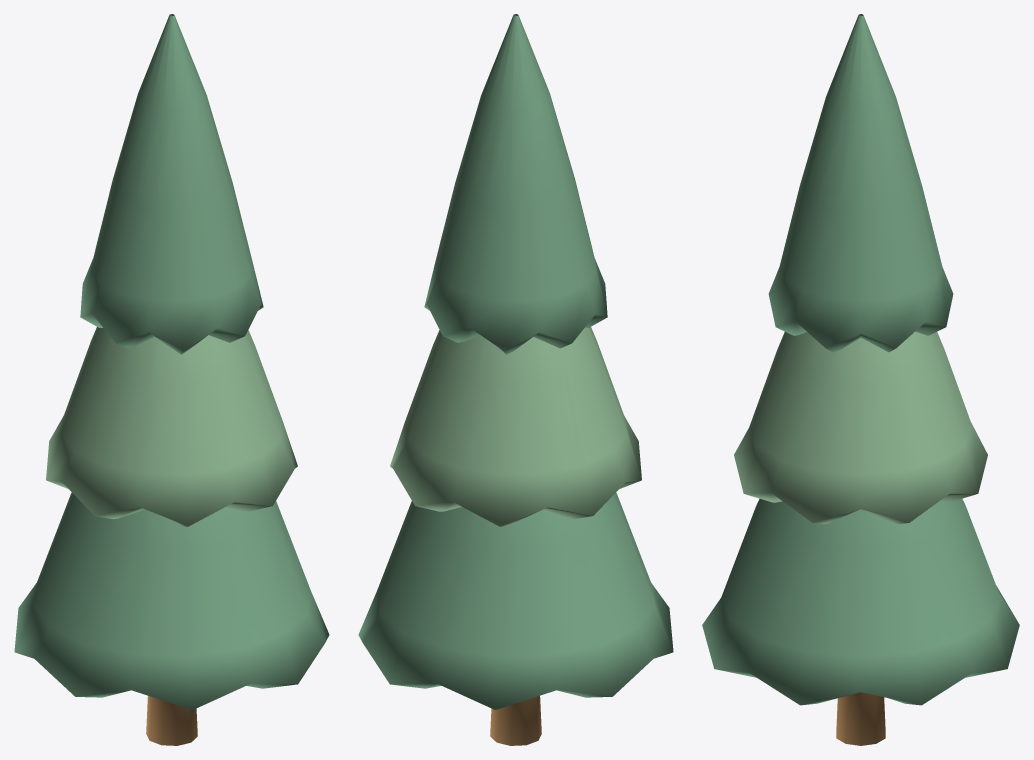
The model's file is prop_conifer.glb.
3 views of the same model, side by side, from view 1: azimuth 30°, elevation 25°; view 2: azimuth 150°, elevation 25°; view 3: azimuth 270°, elevation 25° (orthographic).
Parts seen in each view (by area): view 1: structure.005; view 2: structure.005; view 3: structure.005.
Part boxes in pixels (left/top/right/bottom): structure.005: left=14, top=14, right=329, bottom=745; structure.005: left=358, top=14, right=673, bottom=745; structure.005: left=702, top=14, right=1019, bottom=745.
Size of the model in its own units: 2.2 by 5.5 by 2.2.
